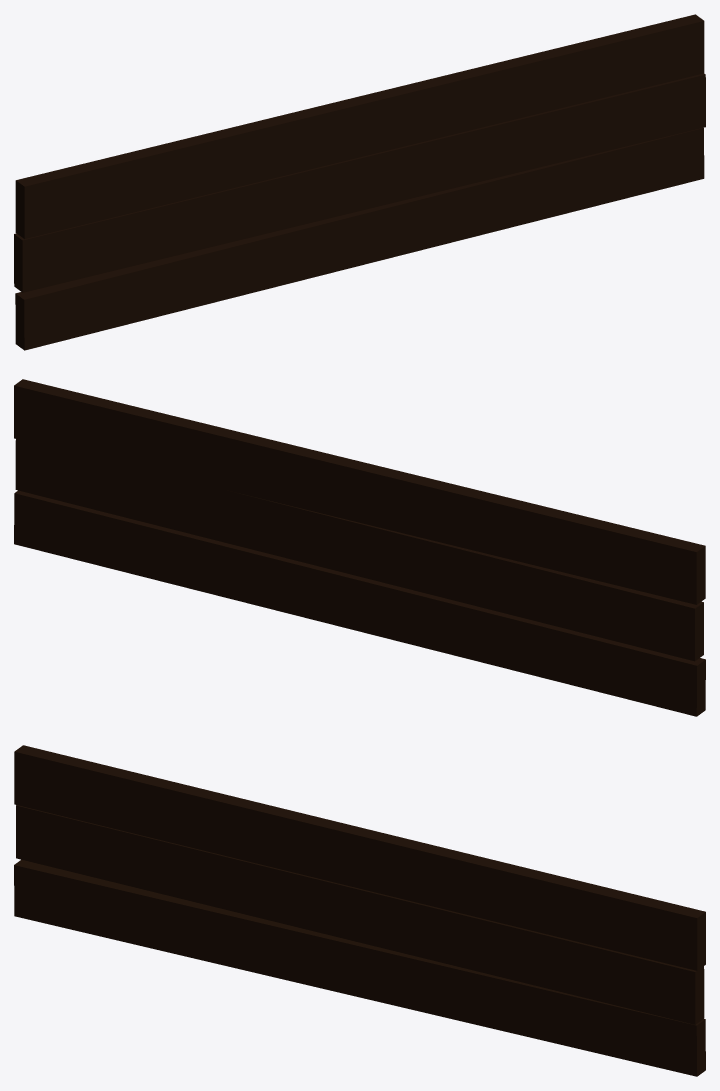
The model's file is Scene_Playing_bottomwood.FBX.
3 views of the same model, one above another, from view 1: azimuth 30°, elevation 25°; view 2: azimuth 150°, elevation 25°; view 3: azimuth 330°, elevation 25° (orthographic).
Parts seen in each view (by area): view 1: Quader007, Quader005, Quader006; view 2: Quader007, Quader005, Quader006; view 3: Quader007, Quader005, Quader006.
Part boxes in pixels (bbox=[...]): Quader007: bbox=[15, 14, 704, 239]; Quader005: bbox=[15, 127, 704, 350]; Quader006: bbox=[14, 73, 705, 292]; Quader007: bbox=[14, 379, 705, 604]; Quader005: bbox=[14, 490, 705, 716]; Quader006: bbox=[15, 439, 703, 661]; Quader007: bbox=[14, 745, 705, 970]; Quader005: bbox=[14, 859, 705, 1076]; Quader006: bbox=[16, 805, 704, 1024].
Bounding box in the file's own units: 17.03 × 0.5295 × 3.92.
